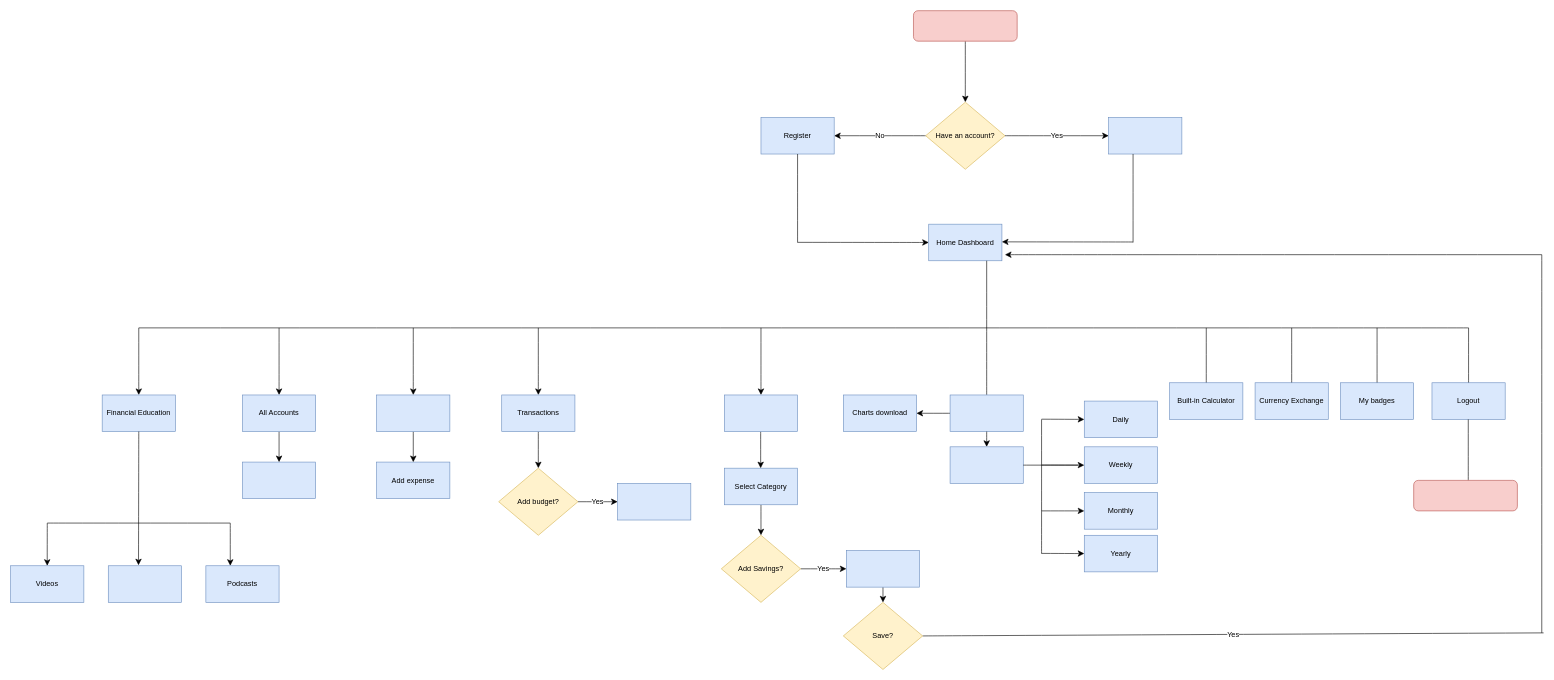
Some shapes in this 1554 by 680 pixel diagram are drawn without their labels. The shapes that lost their labels are listed below. From the top down, each one's centre as x and y in pixels, then its label:
At (x=965, y=25): "Start".
At (x=1145, y=135): "Login".
At (x=413, y=413): "Categories".
At (x=761, y=413): "Savings".
At (x=986, y=413): "Analysis".
At (x=279, y=480): "Add Account".
At (x=986, y=464): "Pick time frame".
At (x=654, y=501): "Add budget".
At (x=1465, y=495): "End".
At (x=144, y=583): "Articles".
At (x=883, y=568): "Add savings".
